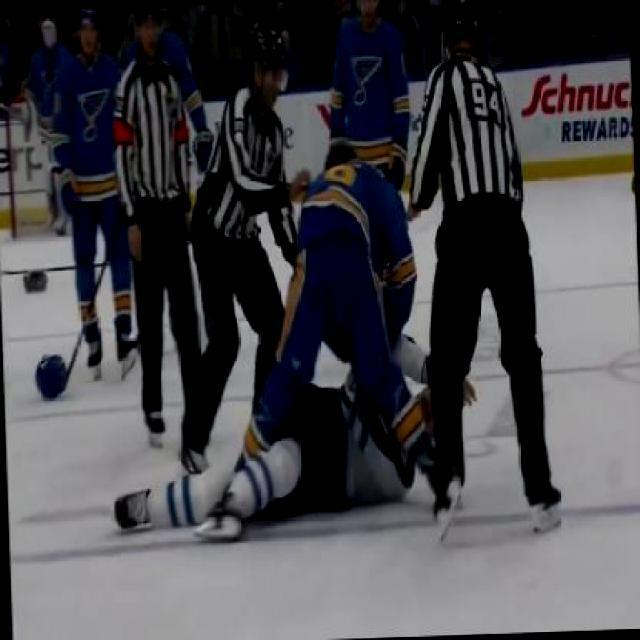fight: (256, 141, 429, 501)
